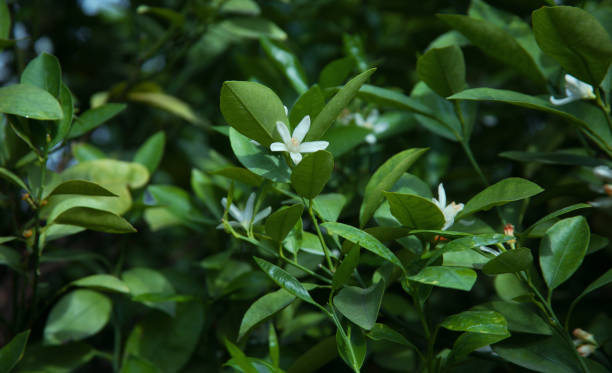flower: (263, 115, 334, 170), (409, 180, 477, 235), (209, 191, 281, 232)
